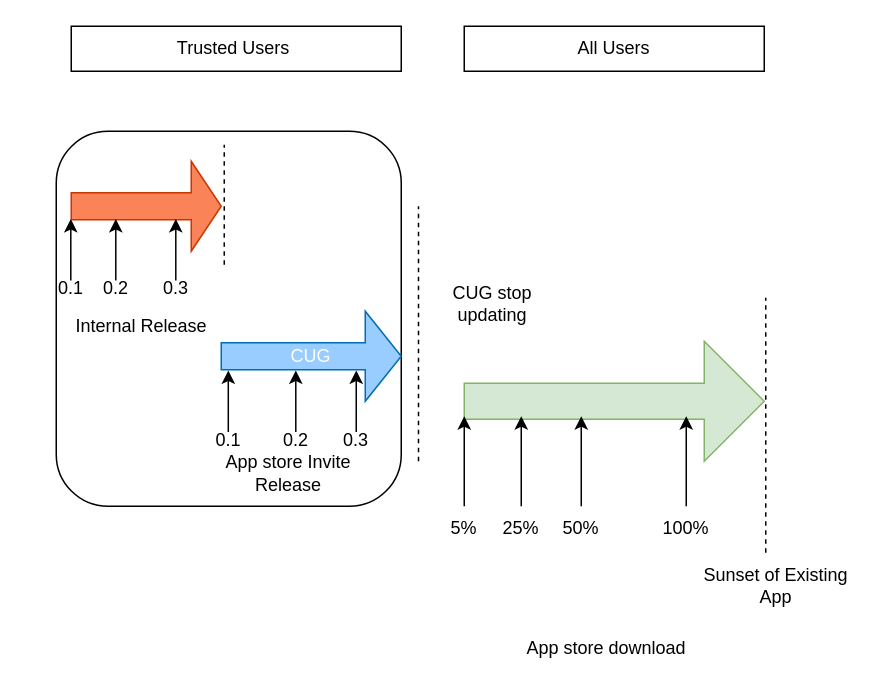
Image size: 891x698. Some labels were removed from this diagram. Here are the shapes that lost their labels. From the top down, the centre of each, then its label:
At point 145,205: "Alpha".
At point 613,400: "Staged Rollout (GA)".
